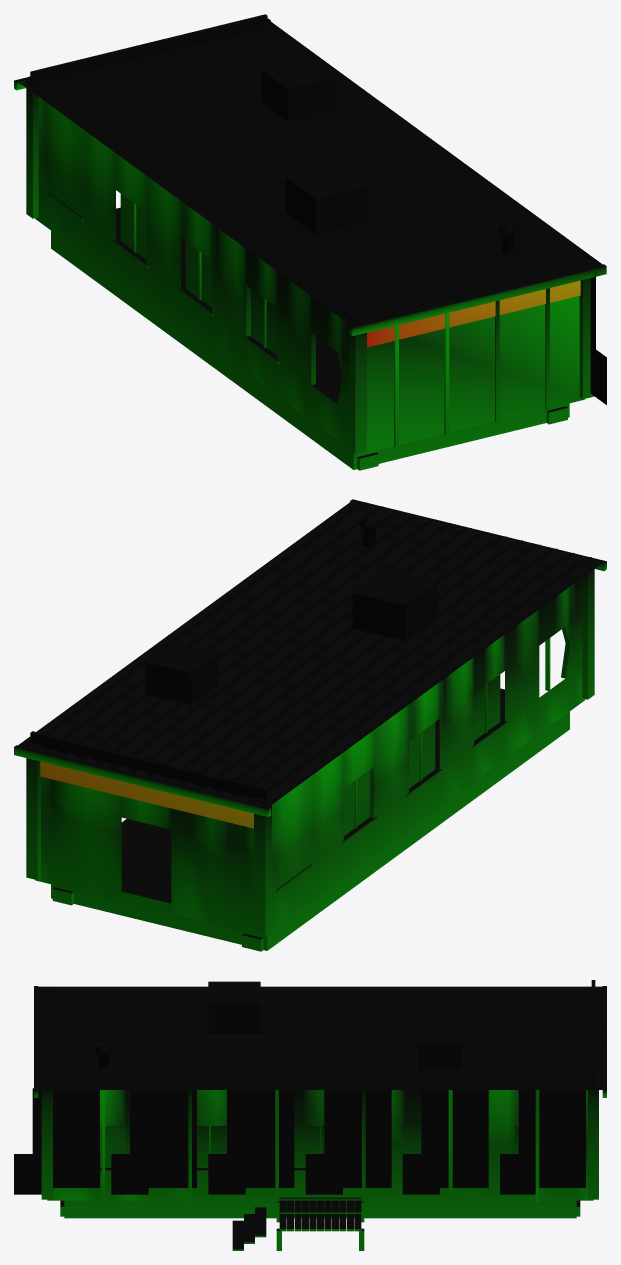
Rendered from portable.glb.
The picture shows the model from 3 angles, top to bottom: view 1: azimuth 30°, elevation 25°; view 2: azimuth 150°, elevation 25°; view 3: azimuth 270°, elevation 25°; orthographic projection. The views are drawn at different scales.
Parts seen in each view (by area): view 1: lod0; view 2: lod0; view 3: lod0.
Part boxes in pixels (x1,y1,x2,y2): lod0: (14,14,606,470); lod0: (14,499,606,951); lod0: (14,980,606,1250).
Size of what is drawn, in the model's own units: 8.21 by 4.96 by 15.86.
